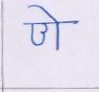e_matra: (30, 5, 62, 21)
